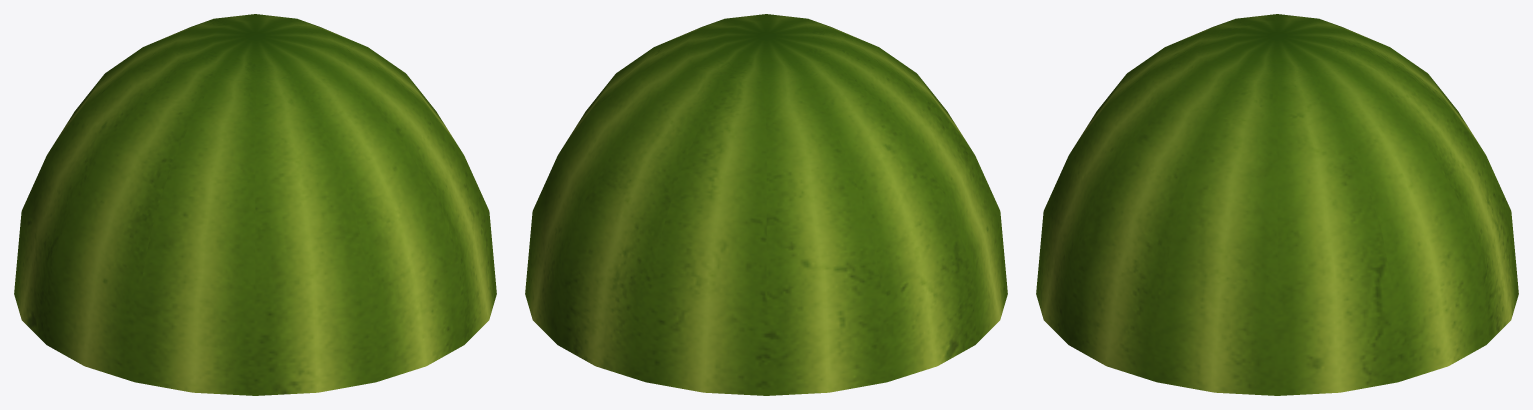
Rendered from Watermelon_Half_Top.fbx.
3 renders of one model, left to right at view 1: azimuth 30°, elevation 25°; view 2: azimuth 150°, elevation 25°; view 3: azimuth 270°, elevation 25°, orthographic.
Visible parts, largest first — view 1: Watermelon_Half_Top; view 2: Watermelon_Half_Top; view 3: Watermelon_Half_Top.
Boxes of the visible parts, <box> form: Watermelon_Half_Top: <box>14,14,496,395</box>; Watermelon_Half_Top: <box>525,14,1007,395</box>; Watermelon_Half_Top: <box>1036,14,1518,395</box>.
Size of the model in its own units: 2.44 by 1.44 by 2.44.
